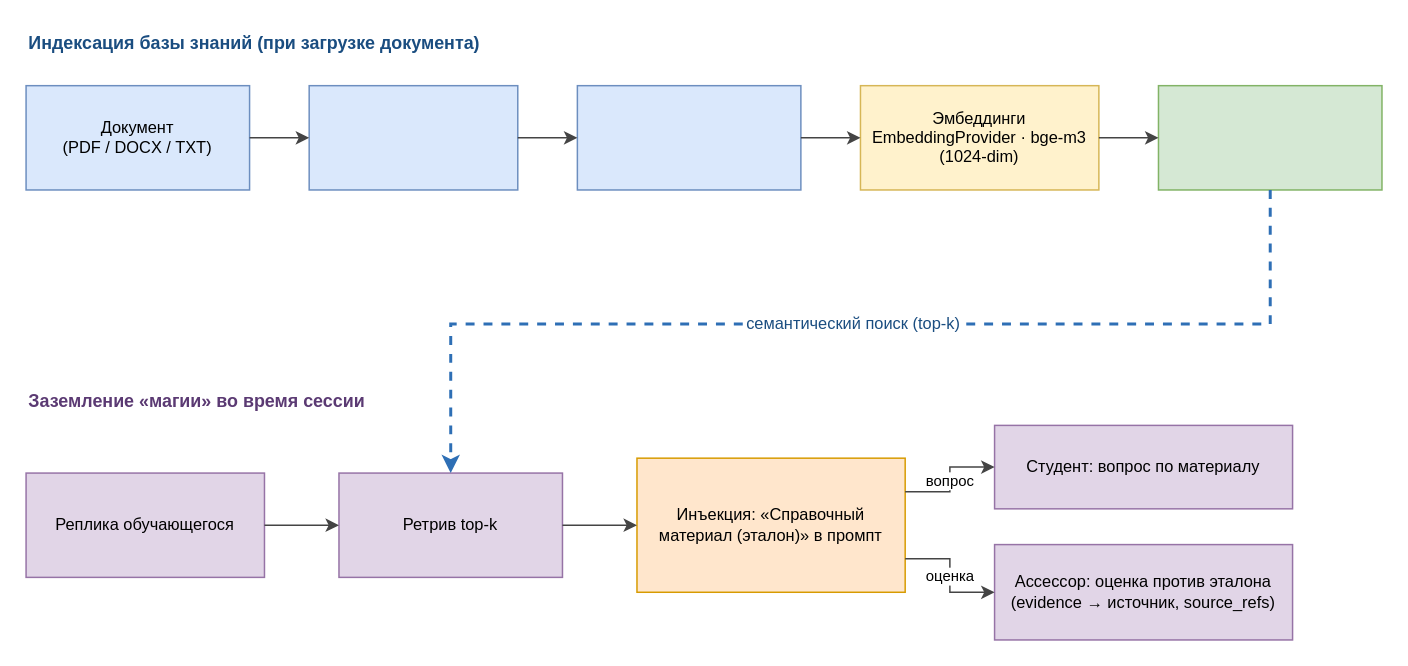
This 1408x666 diagram has some shape labels left out. Each missing label, with the centre of its shape:
"pgvector (вектора чанков)" belongs at point (1269, 137).
"Парсинг (текст + структура)" belongs at point (413, 137).
"Чанкинг ~700 токенов · 15% overlap" belongs at point (688, 137).
